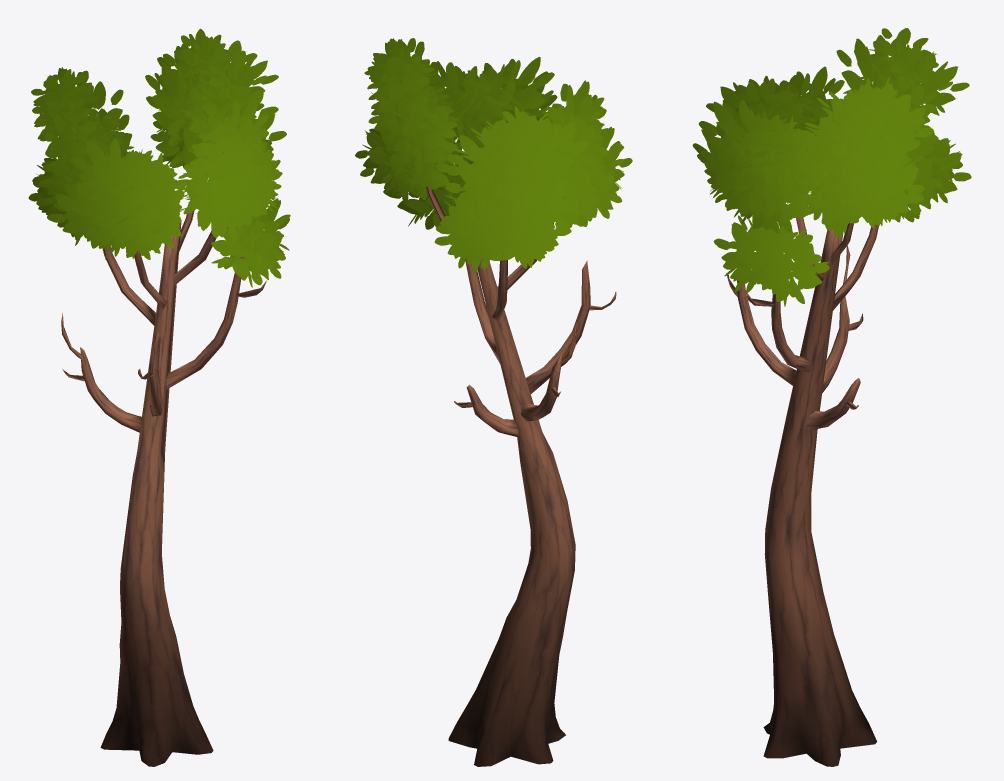
Rendered from commontree_4.glb.
3 renders of one model, left to right at view 1: azimuth 30°, elevation 25°; view 2: azimuth 150°, elevation 25°; view 3: azimuth 270°, elevation 25°, orthographic. The views are drawn at different scales.
Visible parts, largest first — view 1: CommonTree_4; view 2: CommonTree_4; view 3: CommonTree_4.
Boxes of the visible parts, x1,y1,x2,y2 form: CommonTree_4: (28,28,290,766); CommonTree_4: (355,38,632,766); CommonTree_4: (692,28,971,766).
Size of the model in its own units: 3.83 by 9.44 by 3.76.
Materials: 2 (2 with a texture image).
